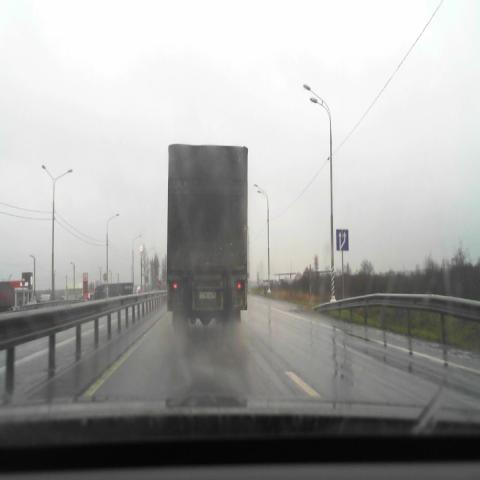5_15_3: (336, 230, 348, 252)
